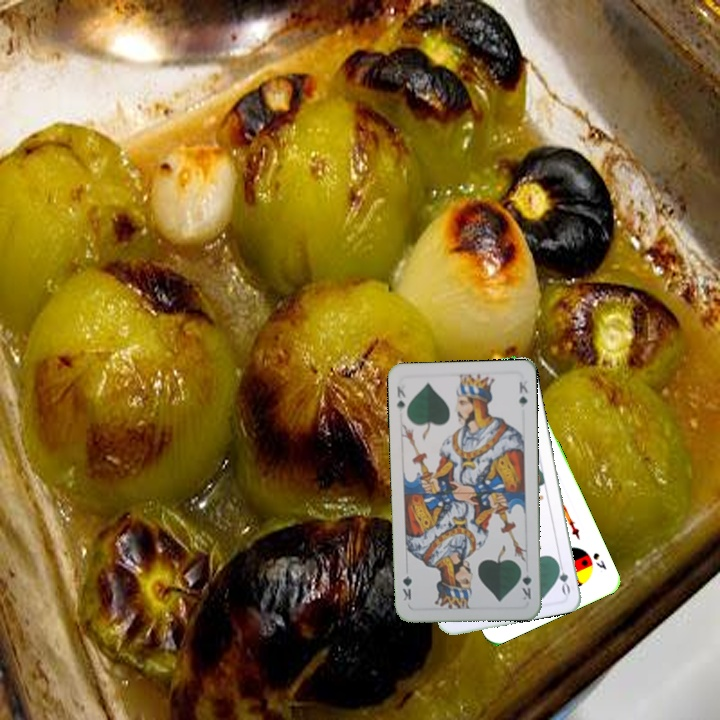GK: (517, 563, 534, 602), (392, 382, 408, 414)
GO: (552, 556, 573, 597)
SK: (589, 549, 609, 572)
